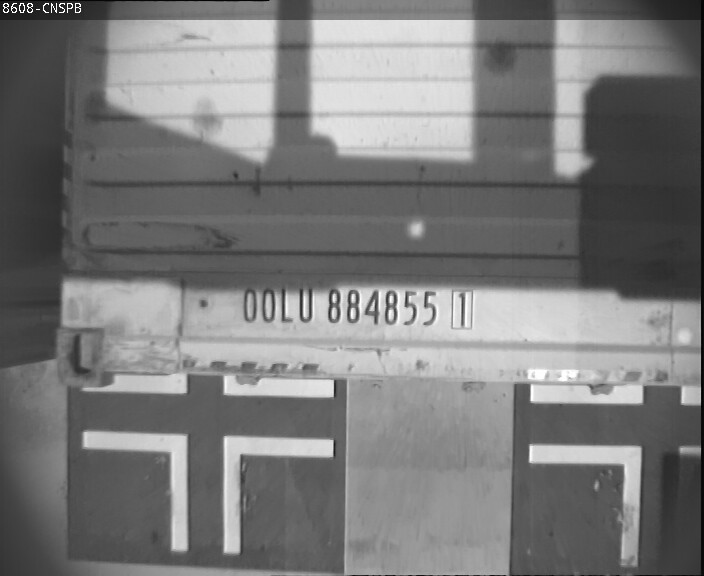groundmarker_1: (83, 429, 334, 553)
